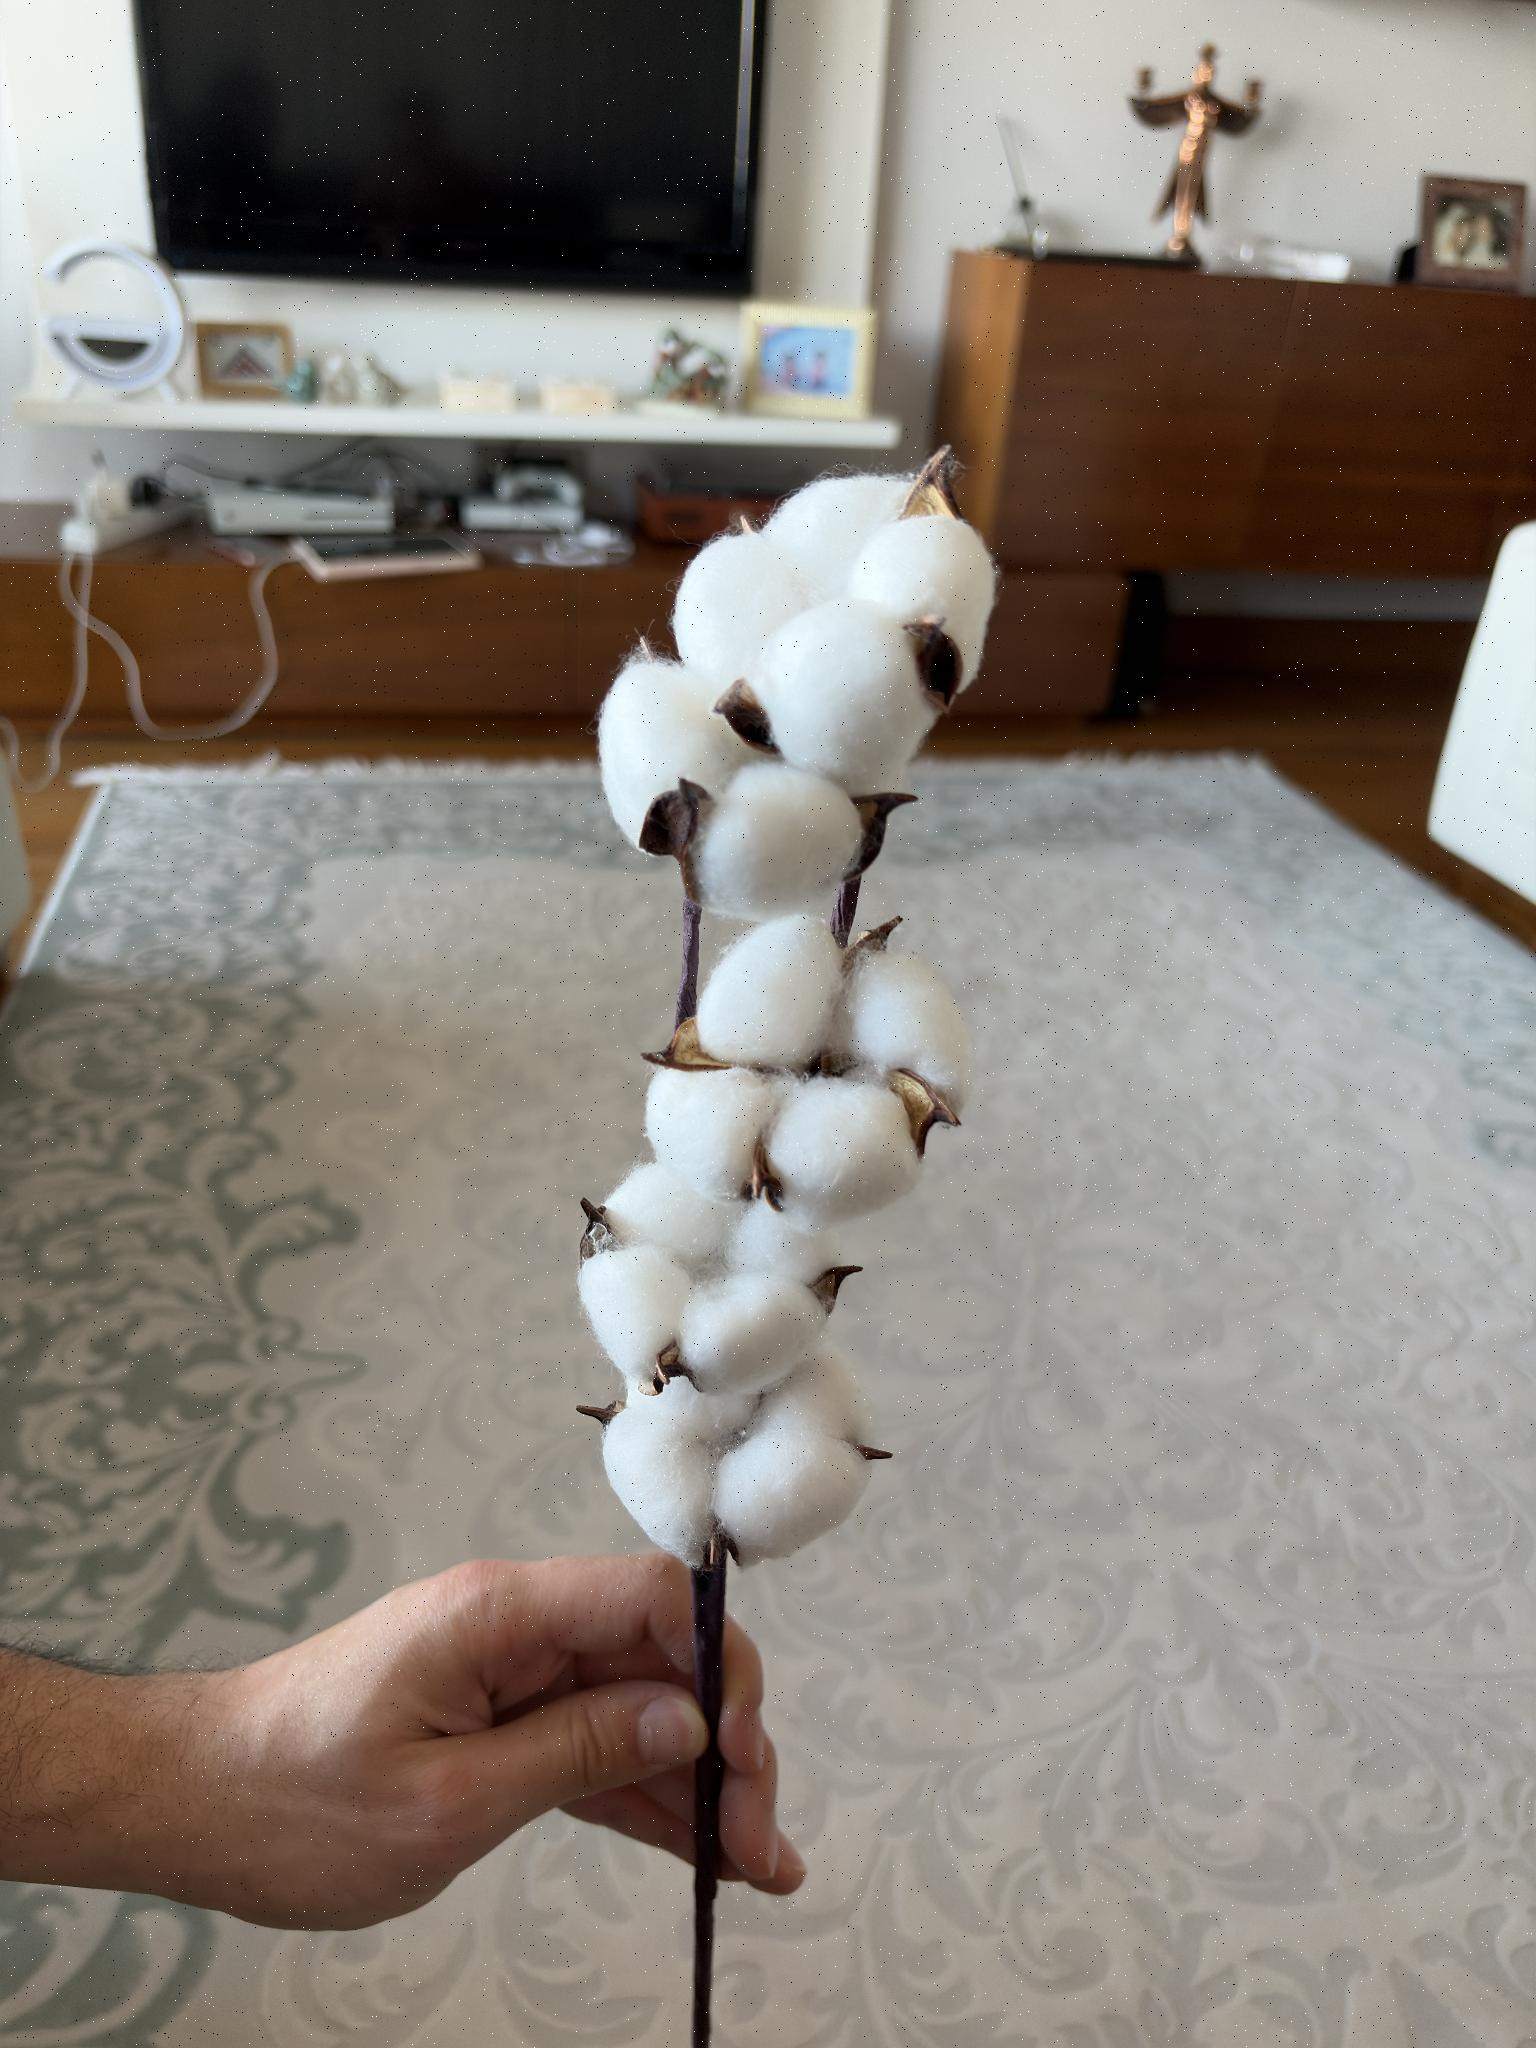cotton_boll: (747, 598, 937, 797), (599, 656, 750, 847), (691, 761, 865, 921), (847, 516, 997, 689), (766, 1079, 920, 1229), (833, 950, 975, 1111), (673, 534, 808, 700), (697, 914, 842, 1068), (716, 1424, 868, 1567), (762, 474, 912, 601), (676, 1272, 824, 1395), (645, 1068, 781, 1201), (603, 1401, 715, 1564), (579, 1245, 699, 1392), (603, 1163, 737, 1264), (752, 1342, 871, 1445), (726, 1203, 844, 1285), (628, 1376, 762, 1442), (847, 679, 847, 679)
cotton_boll-cluster: (594, 469, 1004, 924), (642, 910, 978, 1234), (579, 1158, 847, 1400), (600, 1337, 874, 1572)
